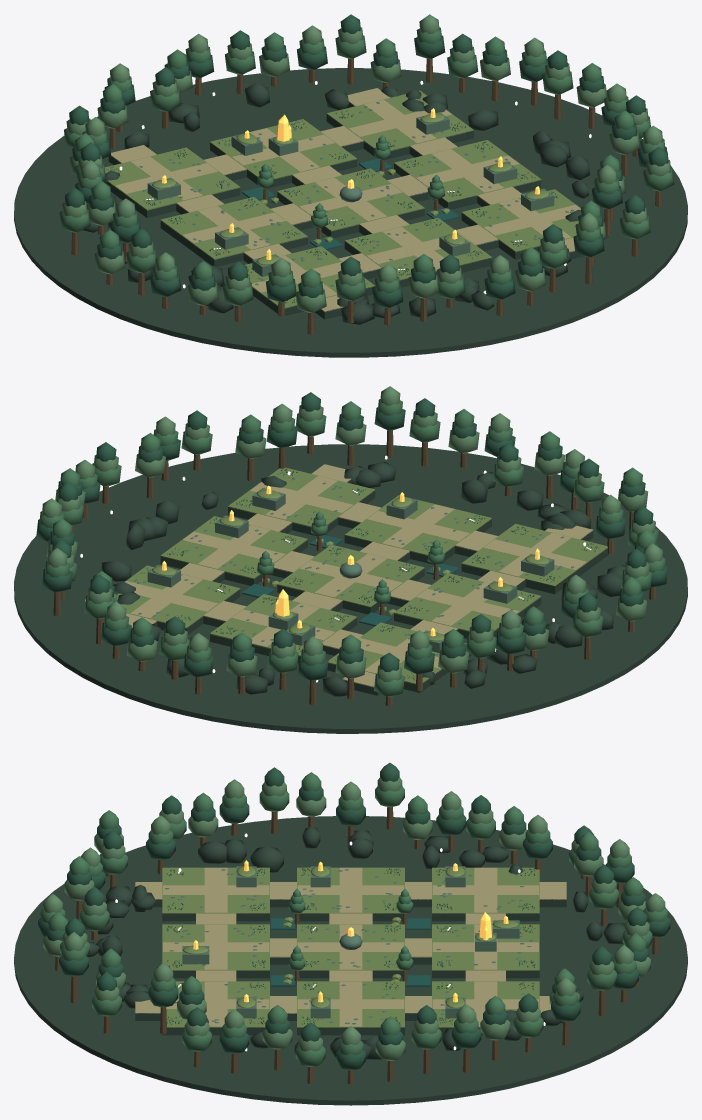
Rendered from mosslight-map.glb.
The picture shows the model from 3 angles, top to bottom: view 1: azimuth 30°, elevation 25°; view 2: azimuth 150°, elevation 25°; view 3: azimuth 270°, elevation 25°; orthographic projection.
Visible parts, largest first — view 1: Mosslight_Map_Peat_rock, Mosslight_Map_Moss_ground, Mosslight_Map_Ochre_trail, Mosslight_Map_Canopy_1, Mosslight_Map_Canopy_2, Mosslight_Map_Canopy_0, Mosslight_Map_Warm_bark, Mosslight_Map_Weathered_stone, Mosslight_Map_Quiet_teal_water, Mosslight_Map_Amber_lantern; view 2: Mosslight_Map_Peat_rock, Mosslight_Map_Moss_ground, Mosslight_Map_Ochre_trail, Mosslight_Map_Canopy_1, Mosslight_Map_Canopy_2, Mosslight_Map_Canopy_0, Mosslight_Map_Warm_bark, Mosslight_Map_Weathered_stone, Mosslight_Map_Quiet_teal_water, Mosslight_Map_Amber_lantern; view 3: Mosslight_Map_Peat_rock, Mosslight_Map_Moss_ground, Mosslight_Map_Ochre_trail, Mosslight_Map_Canopy_1, Mosslight_Map_Canopy_0, Mosslight_Map_Canopy_2, Mosslight_Map_Warm_bark, Mosslight_Map_Weathered_stone, Mosslight_Map_Quiet_teal_water, Mosslight_Map_Amber_lantern.
Boxes of the visible parts, bbox=[...] form: Mosslight_Map_Peat_rock: bbox=[14, 68, 687, 357]; Mosslight_Map_Moss_ground: bbox=[104, 90, 579, 308]; Mosslight_Map_Ochre_trail: bbox=[110, 88, 580, 311]; Mosslight_Map_Canopy_1: bbox=[59, 27, 674, 305]; Mosslight_Map_Canopy_2: bbox=[62, 14, 670, 313]; Mosslight_Map_Canopy_0: bbox=[65, 14, 668, 308]; Mosslight_Map_Warm_bark: bbox=[71, 58, 662, 334]; Mosslight_Map_Weathered_stone: bbox=[118, 102, 575, 286]; Mosslight_Map_Quiet_teal_water: bbox=[242, 159, 459, 249]; Mosslight_Map_Amber_lantern: bbox=[162, 108, 539, 259]; Mosslight_Map_Peat_rock: bbox=[14, 444, 687, 733]; Mosslight_Map_Moss_ground: bbox=[117, 467, 607, 684]; Mosslight_Map_Ochre_trail: bbox=[125, 464, 593, 687]; Mosslight_Map_Canopy_1: bbox=[39, 399, 665, 697]; Mosslight_Map_Canopy_2: bbox=[42, 386, 662, 682]; Mosslight_Map_Canopy_0: bbox=[36, 392, 668, 680]; Mosslight_Map_Warm_bark: bbox=[53, 430, 656, 706]; Mosslight_Map_Weathered_stone: bbox=[133, 477, 574, 658]; Mosslight_Map_Quiet_teal_water: bbox=[242, 535, 459, 626]; Mosslight_Map_Amber_lantern: bbox=[162, 485, 539, 636]; Mosslight_Map_Peat_rock: bbox=[14, 816, 687, 1105]; Mosslight_Map_Moss_ground: bbox=[162, 866, 539, 1027]; Mosslight_Map_Ochre_trail: bbox=[135, 867, 566, 1026]; Mosslight_Map_Canopy_1: bbox=[40, 772, 667, 1066]; Mosslight_Map_Canopy_0: bbox=[38, 762, 670, 1070]; Mosslight_Map_Canopy_2: bbox=[43, 777, 665, 1060]; Mosslight_Map_Warm_bark: bbox=[55, 807, 659, 1084]; Mosslight_Map_Weathered_stone: bbox=[165, 866, 533, 1024]; Mosslight_Map_Quiet_teal_water: bbox=[271, 918, 430, 986]; Mosslight_Map_Amber_lantern: bbox=[193, 860, 508, 1002].
Bounding box in the file's own units: 50 × 6.67 × 50.
